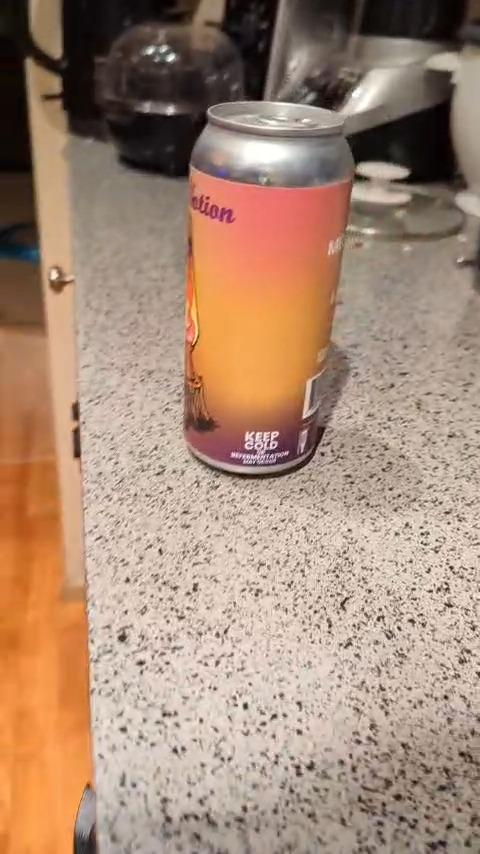metal: (185, 101, 352, 474)
